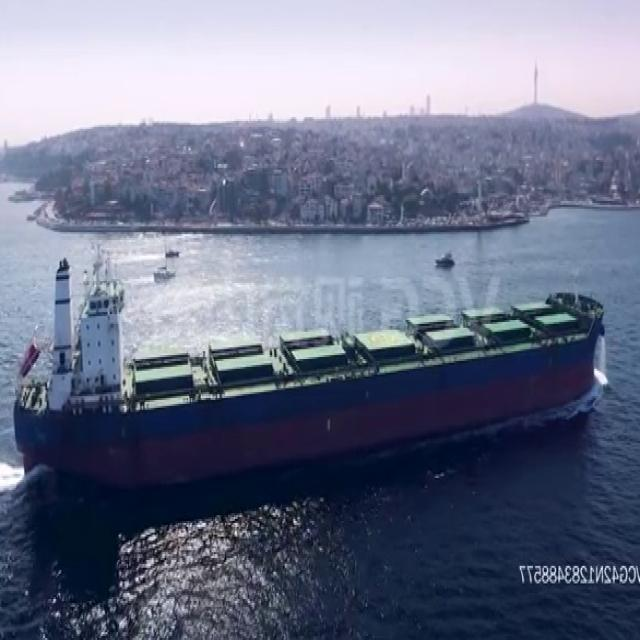cargoship: (14, 249, 615, 503)
houseboat: (431, 244, 458, 270), (151, 261, 177, 282), (162, 243, 180, 260)
